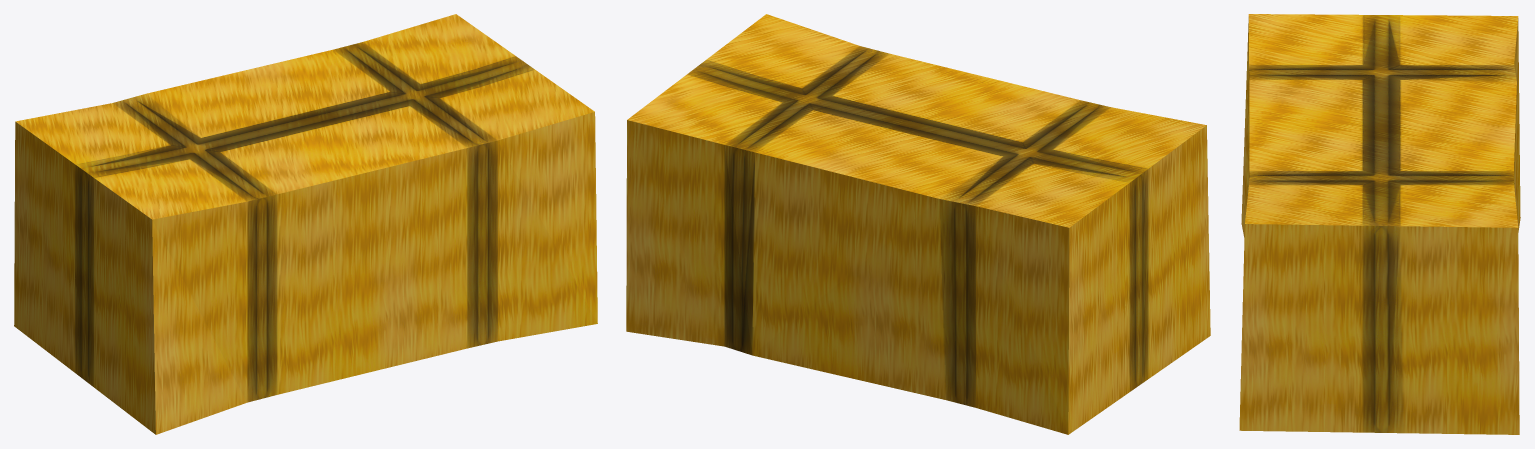
The model's file is Feed Cell.FBX.
The picture shows the model from 3 angles, left to right: view 1: azimuth 30°, elevation 25°; view 2: azimuth 150°, elevation 25°; view 3: azimuth 270°, elevation 25°; orthographic projection.
Visible parts, largest first — view 1: Props_BlockSquare_Mesh; view 2: Props_BlockSquare_Mesh; view 3: Props_BlockSquare_Mesh.
Boxes of the visible parts, x1,y1,x2,y2 form: Props_BlockSquare_Mesh: (14, 14, 597, 434); Props_BlockSquare_Mesh: (626, 14, 1210, 434); Props_BlockSquare_Mesh: (1239, 14, 1520, 434).
Size of the model in its own units: 62.86 by 29.2 by 35.26.
1 material, 1 textured.
